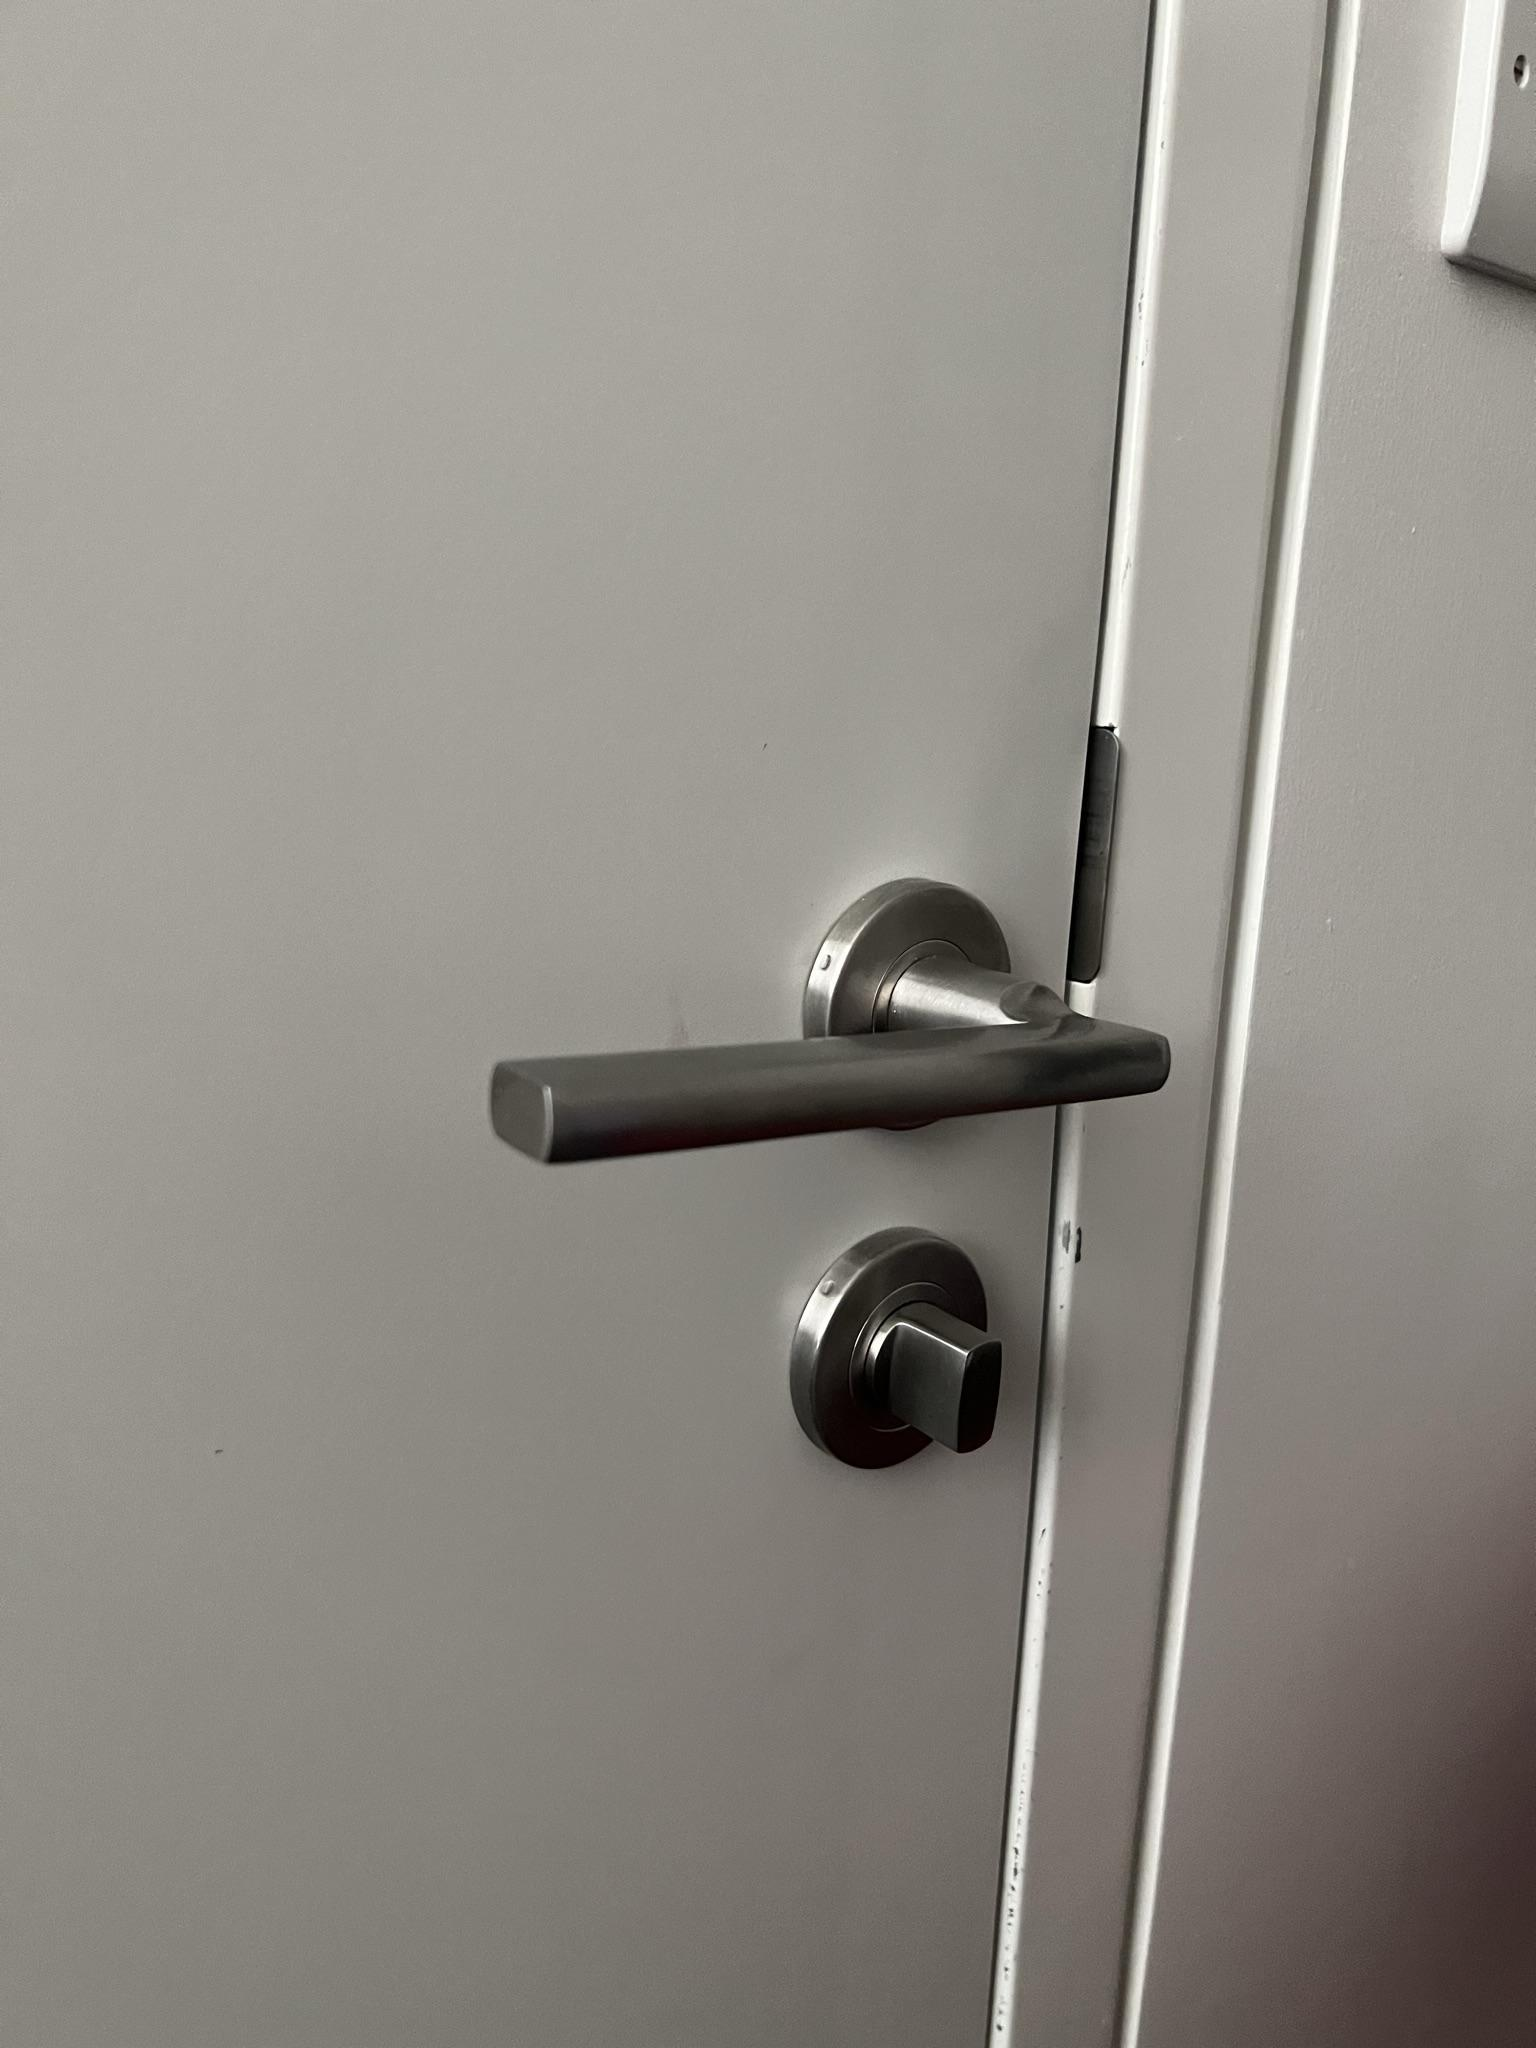handle: (455, 835, 1175, 1474)
